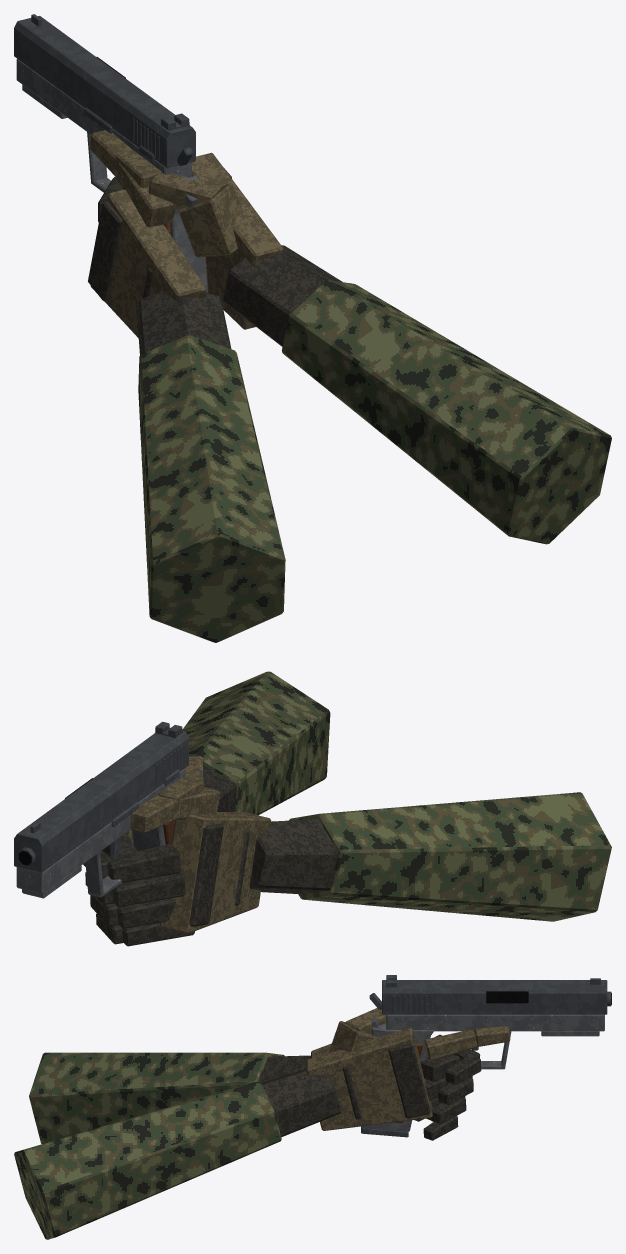
Rendered from weteran.glb.
3 views of the same model, one above another, from view 1: azimuth 30°, elevation 25°; view 2: azimuth 150°, elevation 25°; view 3: azimuth 270°, elevation 25° (orthographic). The views are drawn at different scales.
Parts seen in each view (by area): view 1: reka_p, reka_l, zamek, korpus; view 2: reka_l, reka_p, zamek, korpus; view 3: reka_p, reka_l, zamek, korpus.
Part boxes in pixels (left/top/right/bottom): reka_p: left=116, top=150, right=611, bottom=544; reka_l: left=88, top=130, right=285, bottom=642; zamek: left=14, top=14, right=195, bottom=168; korpus: left=16, top=58, right=208, bottom=292; reka_l: left=83, top=787, right=611, bottom=946; reka_p: left=102, top=671, right=330, bottom=924; zamek: left=14, top=721, right=188, bottom=872; korpus: left=16, top=767, right=202, bottom=898; reka_p: left=14, top=1008, right=510, bottom=1239; reka_l: left=29, top=1034, right=481, bottom=1143; zamek: left=382, top=975, right=611, bottom=1014; korpus: left=361, top=993, right=604, bottom=1131.
Size of the model in its own units: 0.3532 by 0.2441 by 0.5632.
7 materials, 7 textured.
